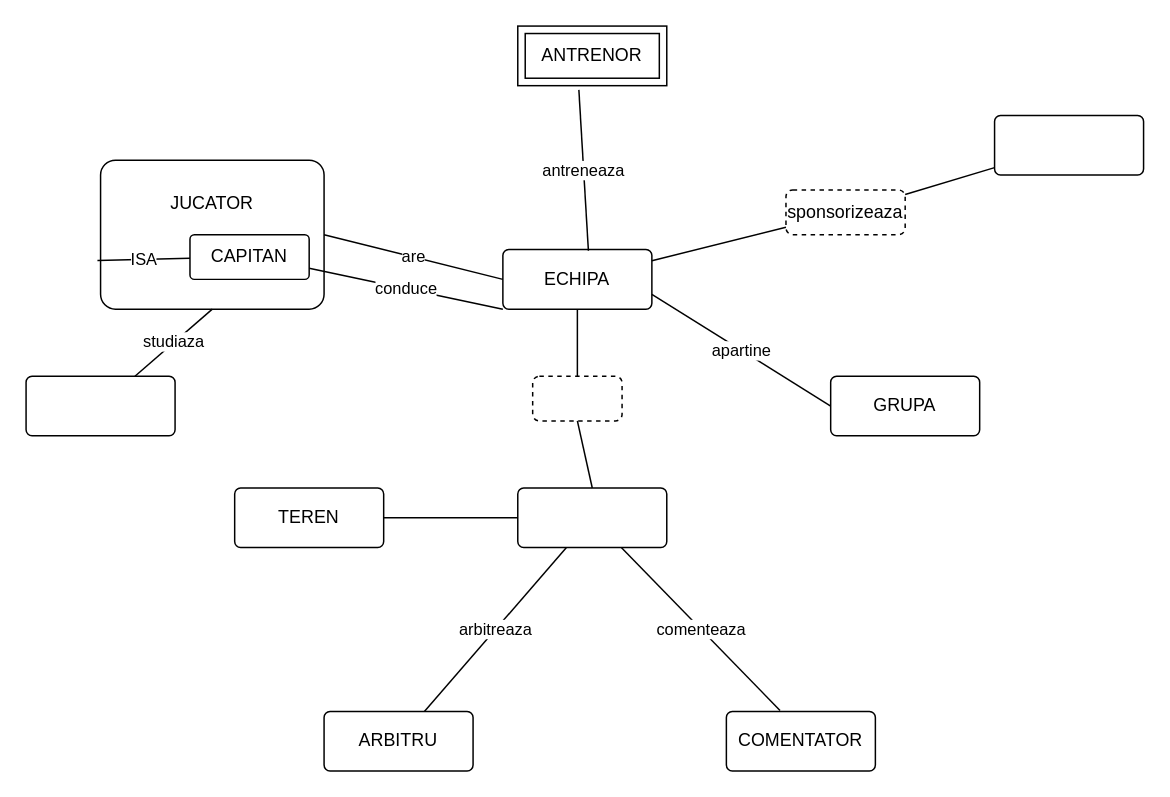
The diagram is 1170 pixels wide and 797 high, and some of its shapes have lost their labels. The shapes that lost their labels are listed below. From the top down, each one's centre as x and y in pixels, then its label:
At (x=1068, y=144): "SPONSOR".
At (x=100, y=405): "DOMENIU".
At (x=576, y=398): "joaca".
At (x=591, y=517): "MECI".
